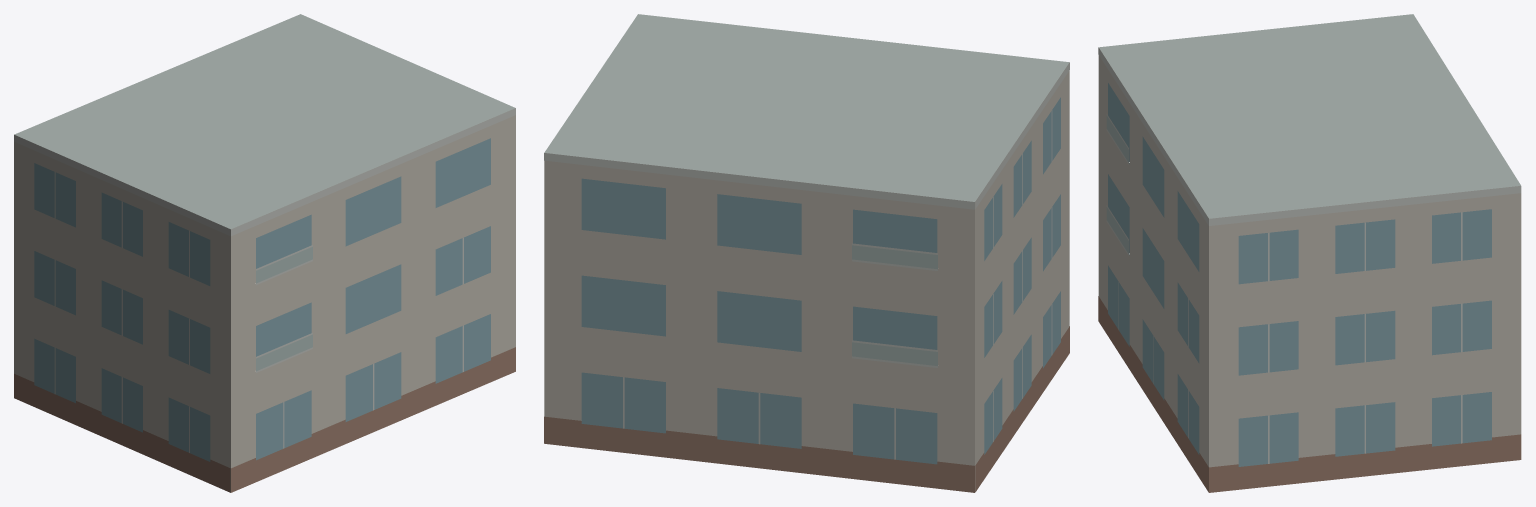
Rendered from survey-upis-32768477.glb.
3 views of the same model, side by side, from view 1: azimuth 30°, elevation 25°; view 2: azimuth 150°, elevation 25°; view 3: azimuth 270°, elevation 25° (orthographic). The views are drawn at different scales.
Parts seen in each view (by area): view 1: survey-upis-32768477.tmp; view 2: survey-upis-32768477.tmp; view 3: survey-upis-32768477.tmp.
Part boxes in pixels (x1,y1,x2,y2): survey-upis-32768477.tmp: [14, 14, 515, 492]; survey-upis-32768477.tmp: [544, 14, 1069, 492]; survey-upis-32768477.tmp: [1098, 14, 1521, 492].
Size of the model in its own units: 14.67 by 9.15 by 12.8.
